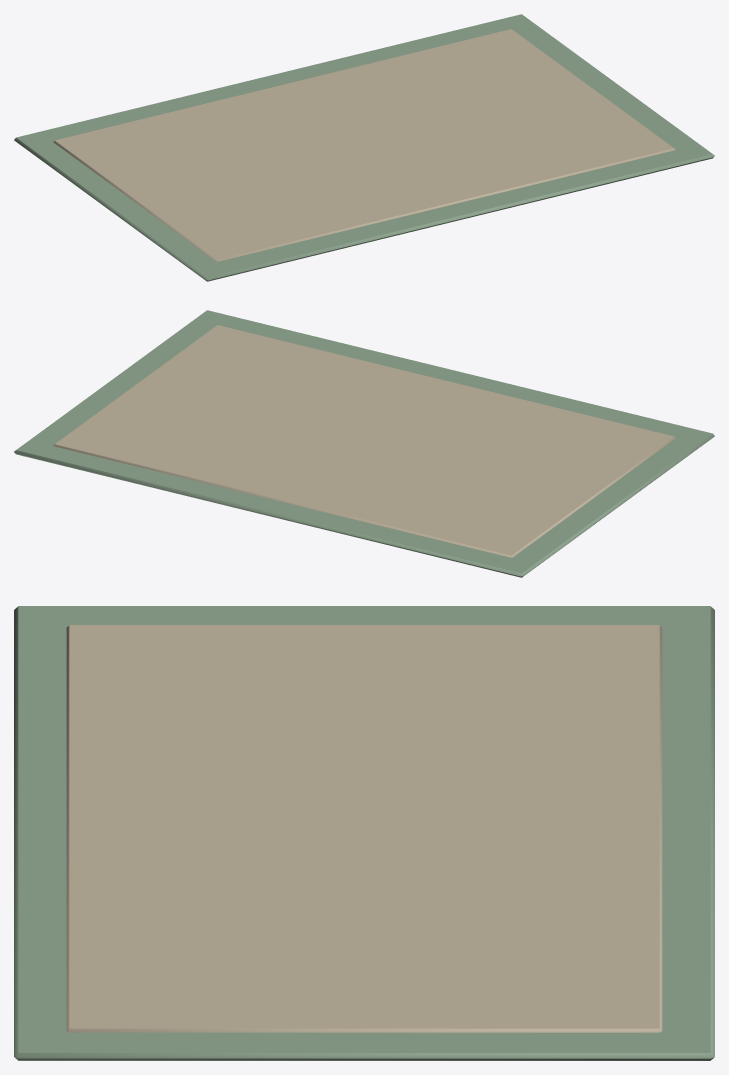
Rendered from rug.glb.
3 renders of one model, top to bottom at view 1: azimuth 30°, elevation 25°; view 2: azimuth 150°, elevation 25°; view 3: azimuth 270°, elevation 25°, orthographic. The views are drawn at different scales.
Parts seen in each view (by area): view 1: rug.001, rug_edge; view 2: rug.001, rug_edge; view 3: rug.001, rug_edge.
Part boxes in pixels (left/top/right/bottom): rug.001: left=53, top=29, right=675, bottom=261; rug_edge: left=14, top=14, right=714, bottom=281; rug.001: left=53, top=325, right=675, bottom=557; rug_edge: left=14, top=310, right=714, bottom=577; rug.001: left=66, top=625, right=662, bottom=1032; rug_edge: left=14, top=606, right=714, bottom=1060.
Bounding box in the file's own units: 1.46 × 0.016 × 0.96.
